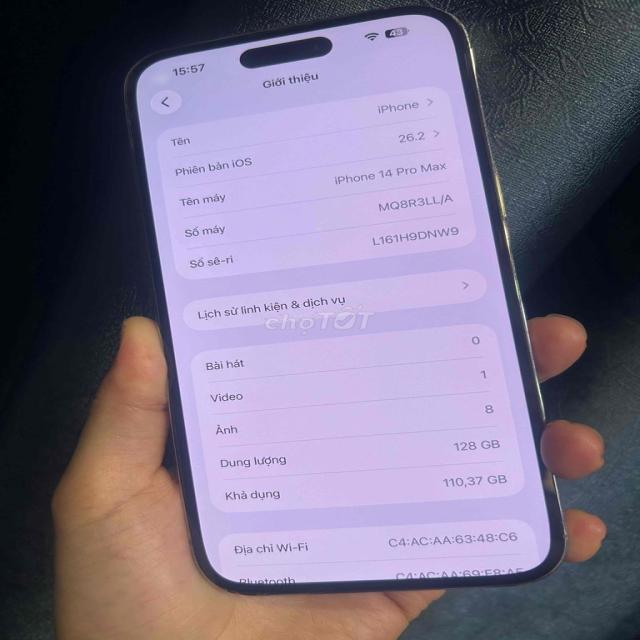gen_14: (118, 8, 585, 606)
